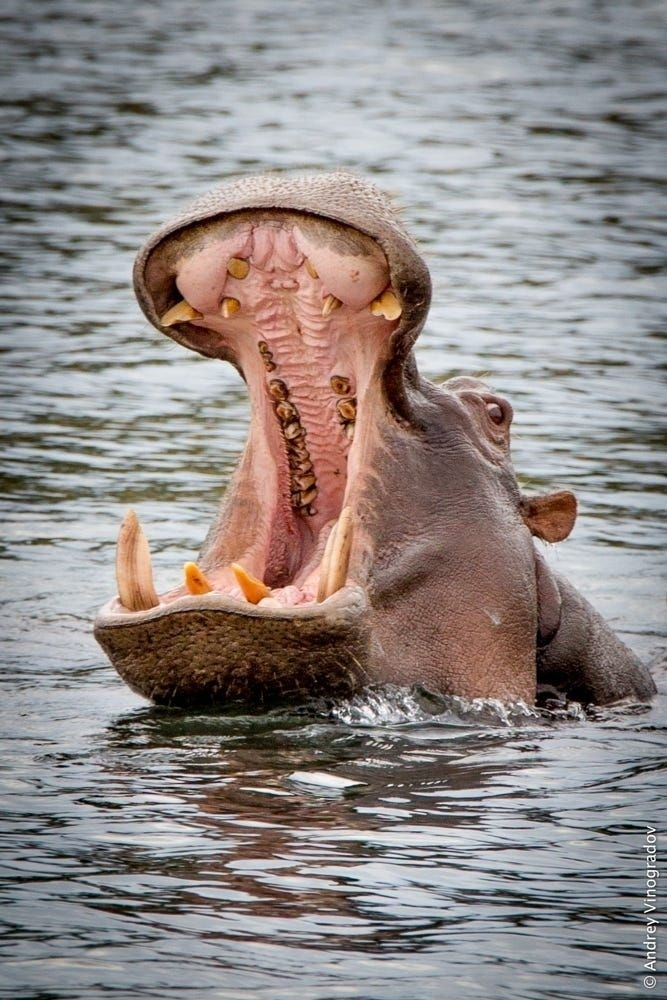hipopotamo: (69, 132, 664, 771)
